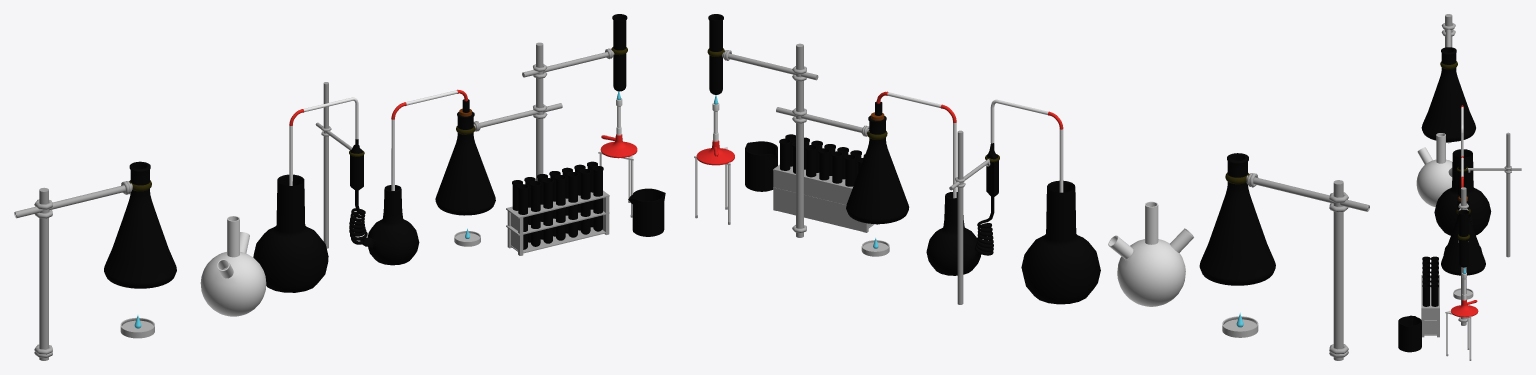
File: chemistry set 1-MQ.fbx
The picture shows the model from 3 angles, left to right: view 1: azimuth 30°, elevation 25°; view 2: azimuth 150°, elevation 25°; view 3: azimuth 270°, elevation 25°; orthographic projection. The views are drawn at different scales.
Parts seen in each view (by area): view 1: Cylinder.004, Cylinder.002, Cylinder.005, Cylinder.003, Cylinder.010; view 2: Cylinder.004, Cylinder.002, Cylinder.005, Cylinder.003, Cylinder.010; view 3: Cylinder.004, Cylinder.002, Cylinder.003, Cylinder.005, Cylinder.010.
Part boxes in pixels (x1=…): Cylinder.004: x1=253, y1=14, x2=637, y2=292; Cylinder.002: x1=14, y1=161, x2=176, y2=360; Cylinder.005: x1=506, y1=161, x2=609, y2=255; Cylinder.003: x1=200, y1=216, x2=266, y2=316; Cylinder.010: x1=628, y1=188, x2=665, y2=236; Cylinder.004: x1=694, y1=14, x2=1100, y2=304; Cylinder.002: x1=1199, y1=153, x2=1369, y2=360; Cylinder.005: x1=773, y1=134, x2=878, y2=232; Cylinder.003: x1=1108, y1=201, x2=1194, y2=306; Cylinder.010: x1=745, y1=141, x2=777, y2=191; Cylinder.004: x1=1434, y1=105, x2=1521, y2=360; Cylinder.002: x1=1421, y1=14, x2=1475, y2=143; Cylinder.003: x1=1416, y1=133, x2=1452, y2=207; Cylinder.005: x1=1421, y1=256, x2=1439, y2=337; Cylinder.010: x1=1398, y1=315, x2=1421, y2=352.
Bounding box in the file's own units: 165 × 48.18 × 37.59.
